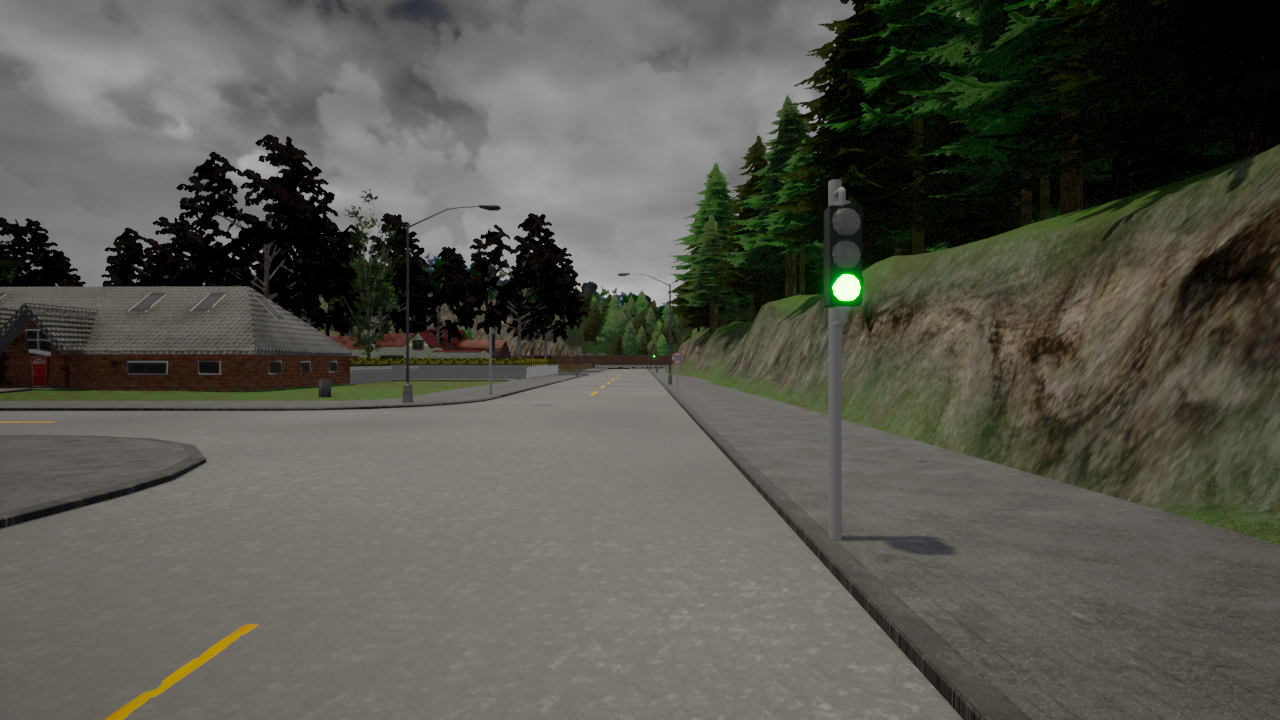green: (823, 203, 865, 310)
